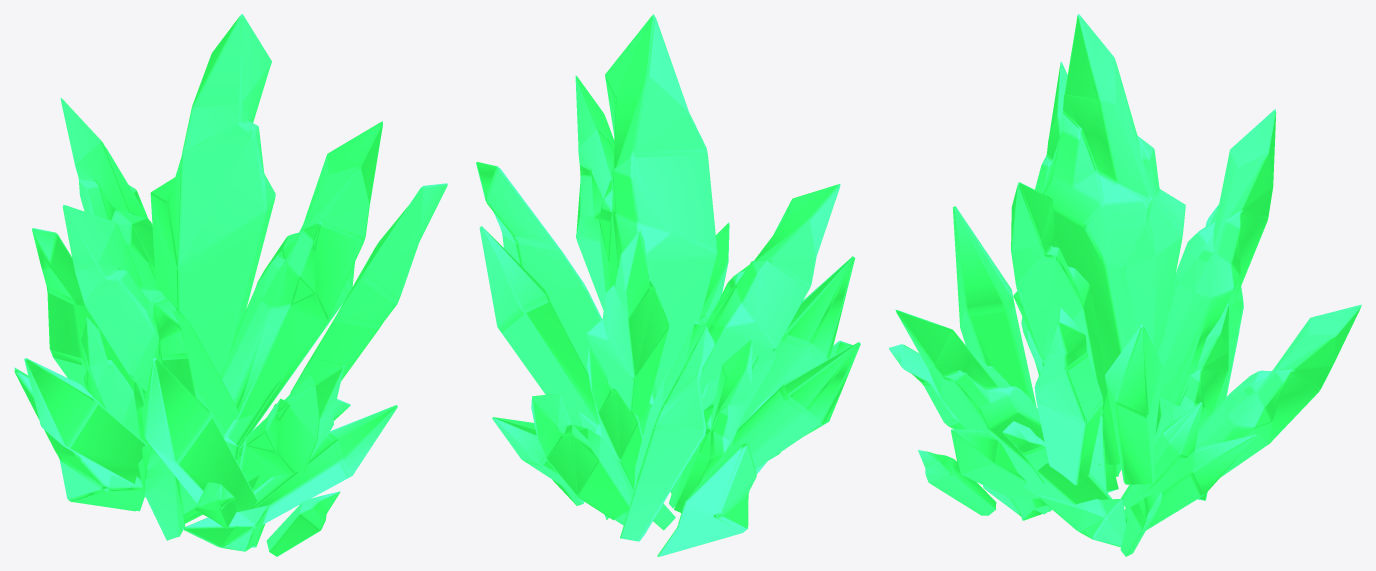
The model's file is 4-shuijing.FBX.
The picture shows the model from 3 angles, left to right: view 1: azimuth 30°, elevation 25°; view 2: azimuth 150°, elevation 25°; view 3: azimuth 270°, elevation 25°; orthographic projection. The views are drawn at different scales.
Parts seen in each view (by area): view 1: Object247; view 2: Object247; view 3: Object247.
Boxes of the visible parts, left/top/right/bottom form: Object247: left=14, top=14, right=447, bottom=556; Object247: left=476, top=14, right=860, bottom=556; Object247: left=889, top=14, right=1361, bottom=556.
Size of the model in its own units: 0.7671 by 0.9247 by 0.7549.
